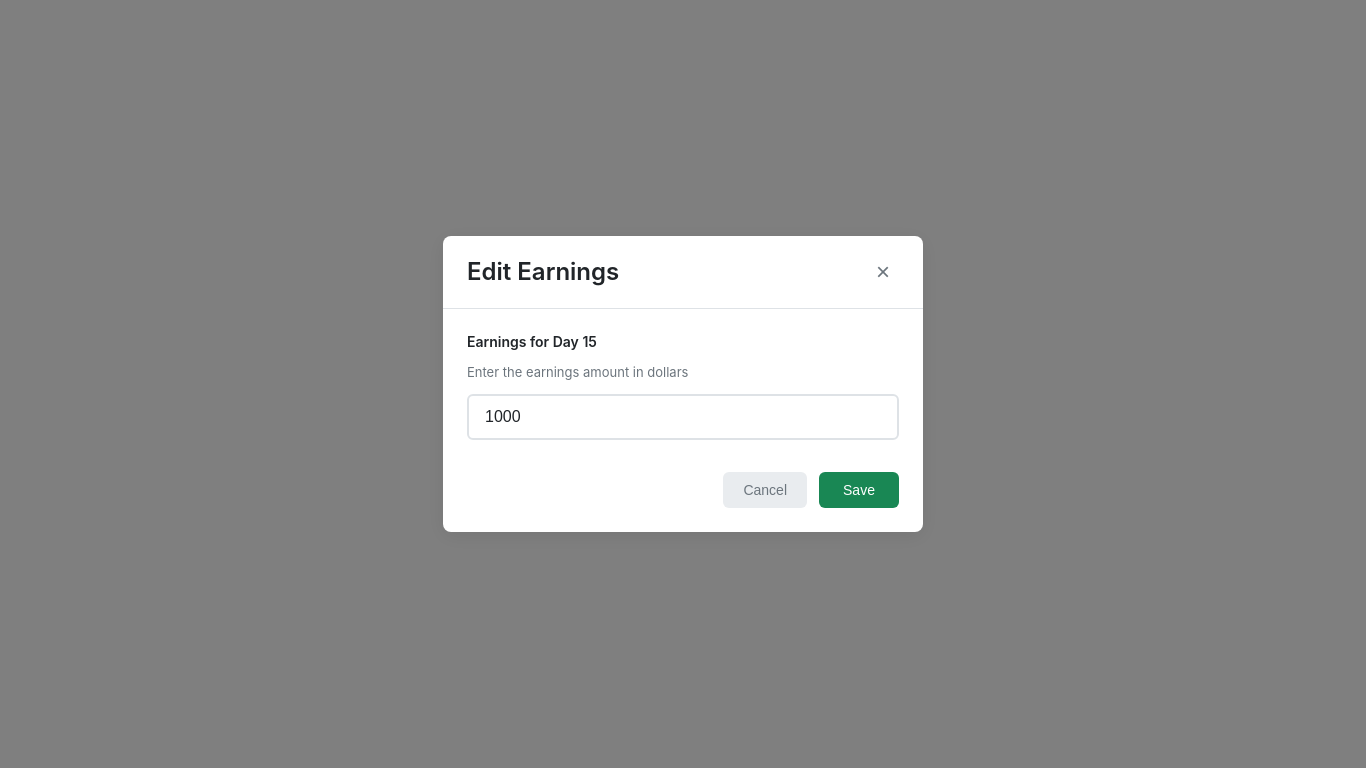
Test case: EditModal › Form Validation › should clear error when valid input is entered
Clear the number field at (683, 417), box 467,394 -> 899,440
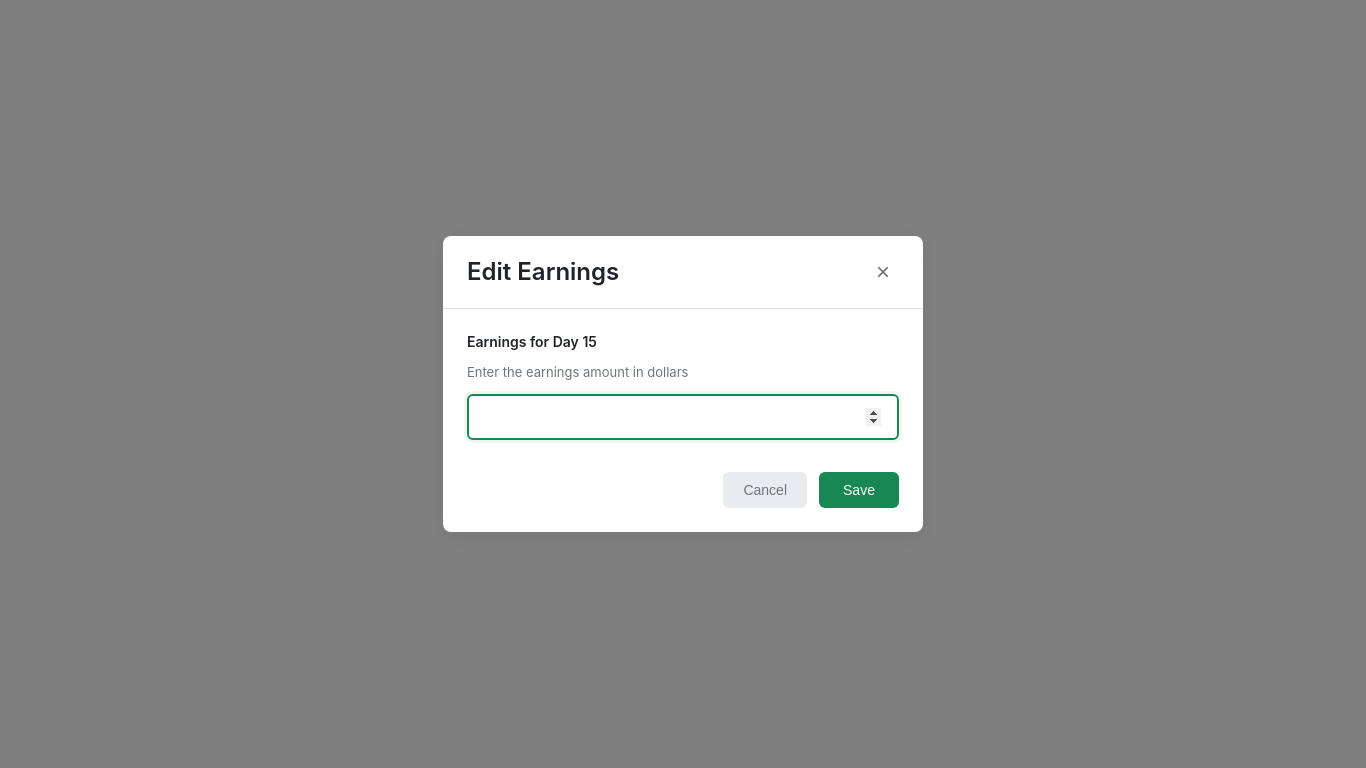
Click the button "Save".
click(859, 490)  # box 819,472 -> 899,508
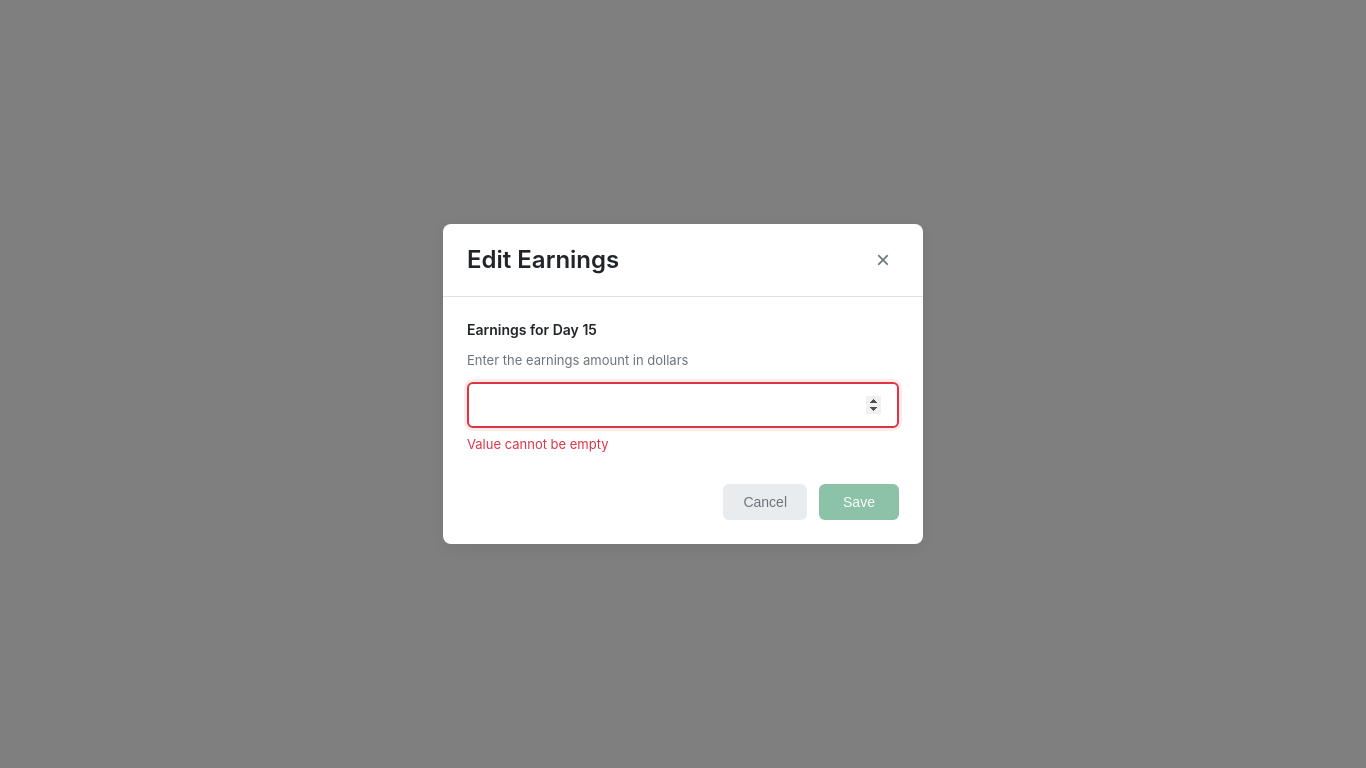
Now the text "Value cannot be empty" is shown, box 467,436 -> 608,452
Type "1500" into the number field.
click(683, 405); type("1500")  # box 467,382 -> 899,428
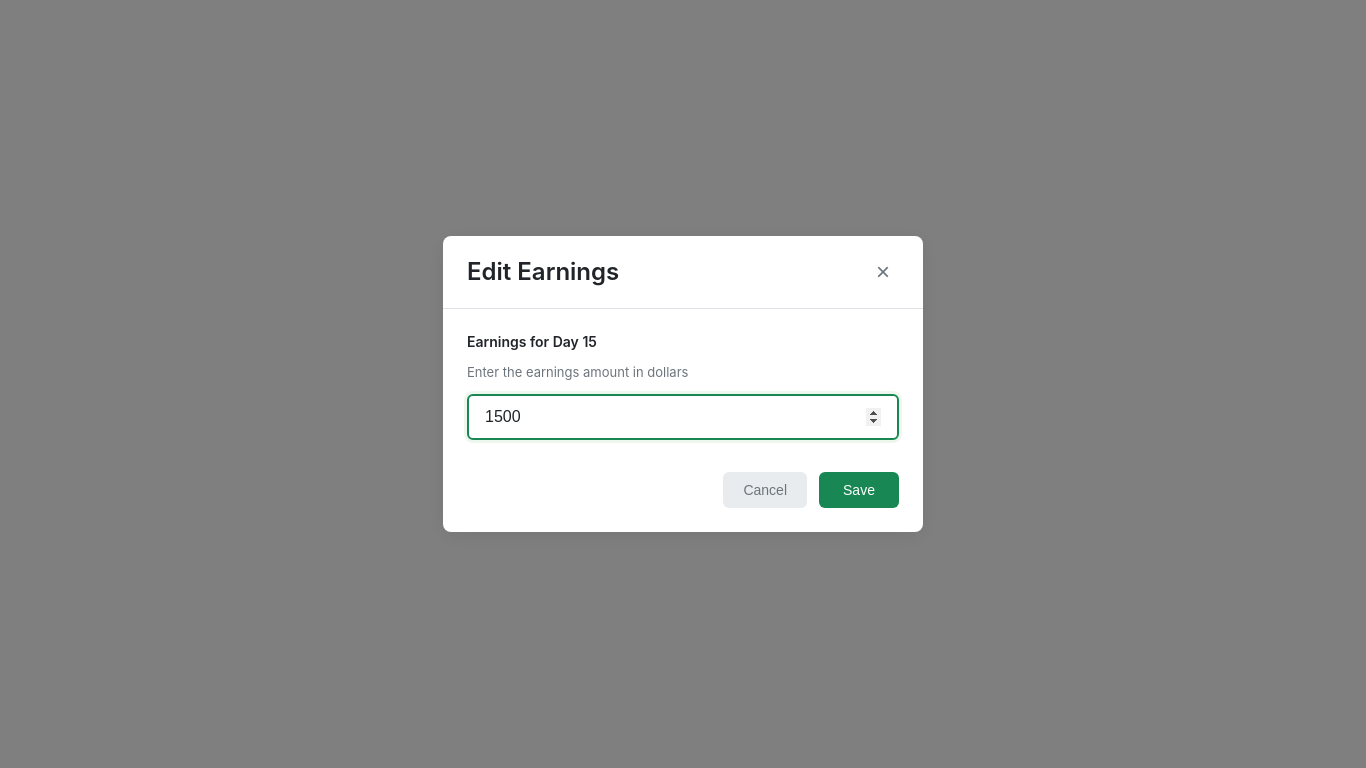
Now the text "Value cannot be empty" is gone
